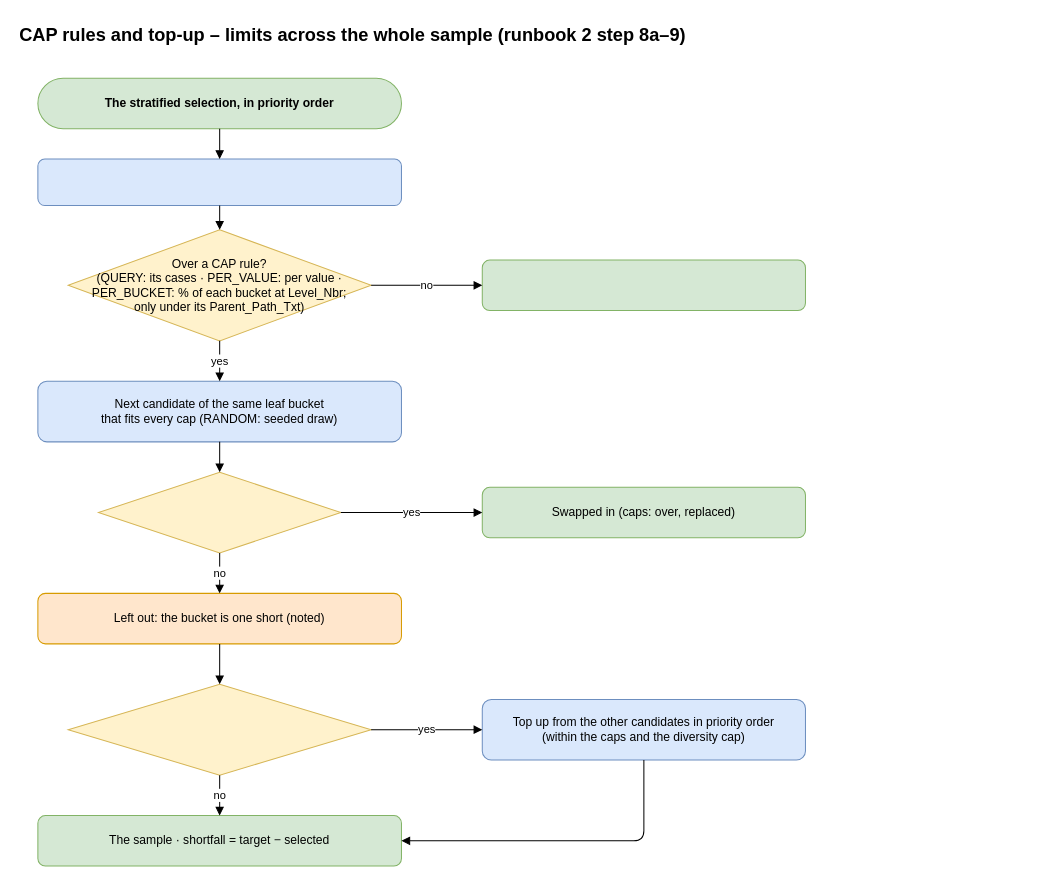
This 1044x884 diagram has some shape labels left out. The centre of each missing label's shape, as x and y in pixels:
"Found one?" goes at (x=219, y=512).
"Kept: counts toward every cap it is under" goes at (x=643, y=285).
"Next selected case" goes at (x=219, y=182).
"Short of the target and Shortfall_Cd TOPUP?" goes at (x=219, y=729).
